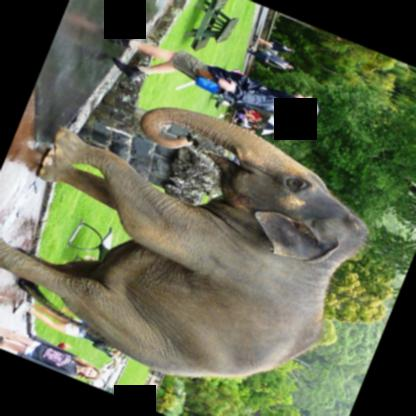handbag: (194, 68, 230, 99)
